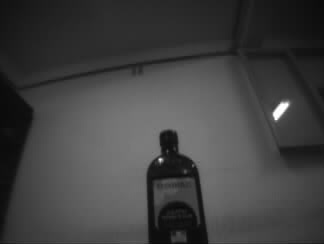Bottle: (146, 129, 208, 244)
